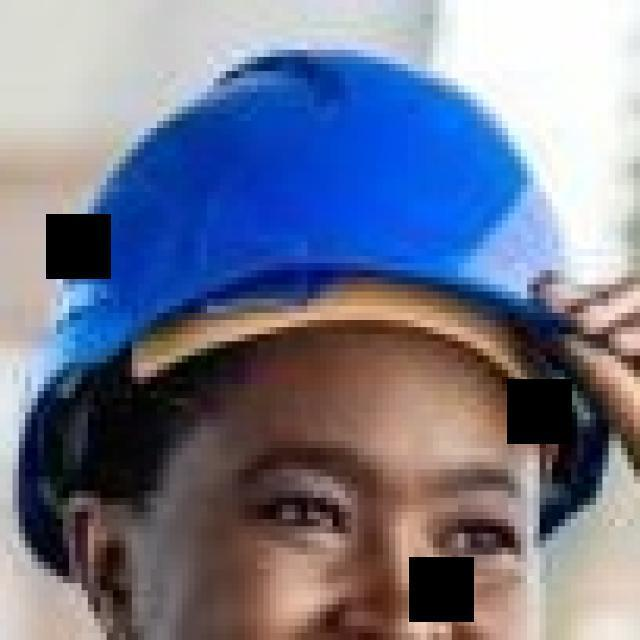blue helmet: (19, 51, 629, 404)
